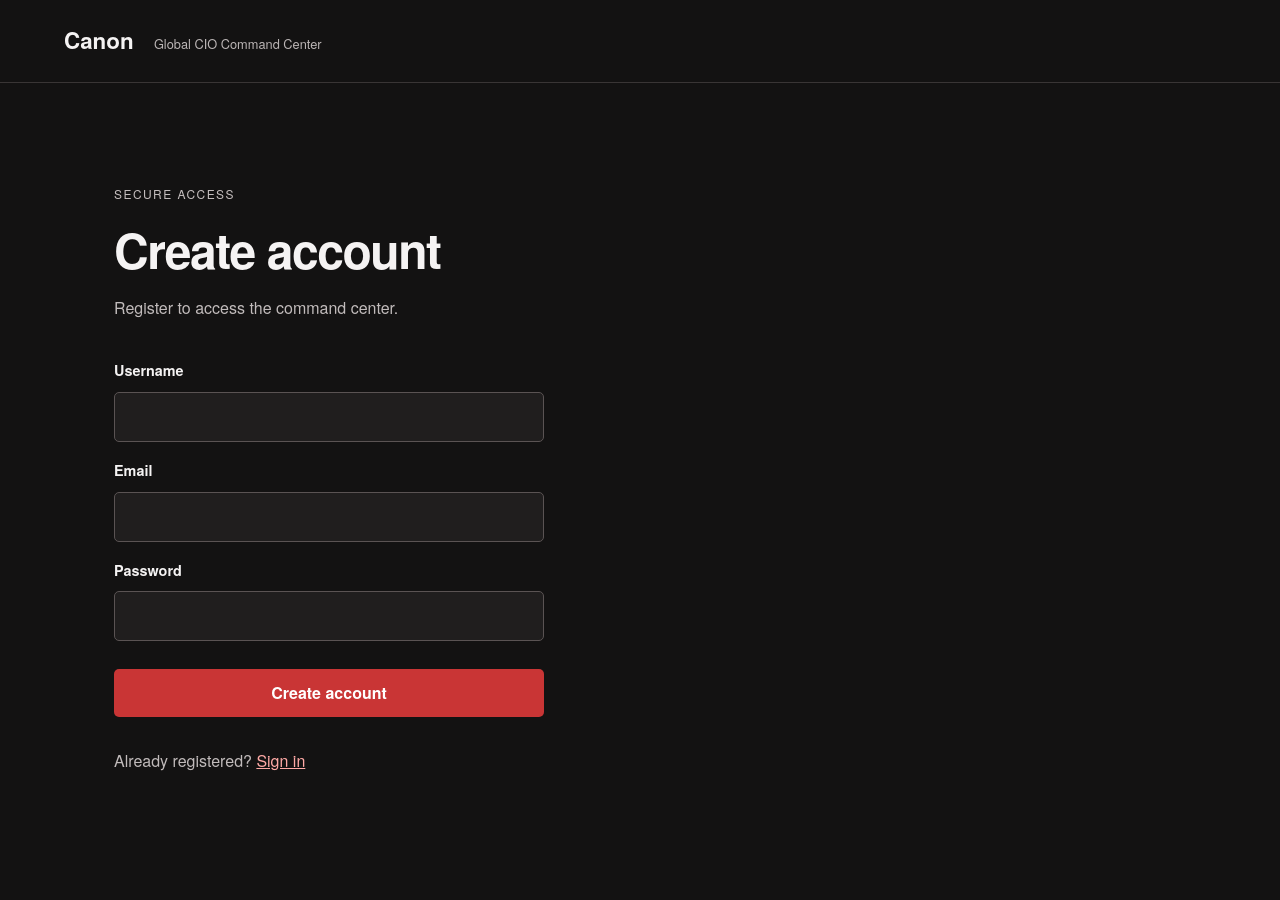
identity screens › shows registration conflict and success
Type "alice" into the field labelled "Username" at (329,417), box 114,392 -> 544,442
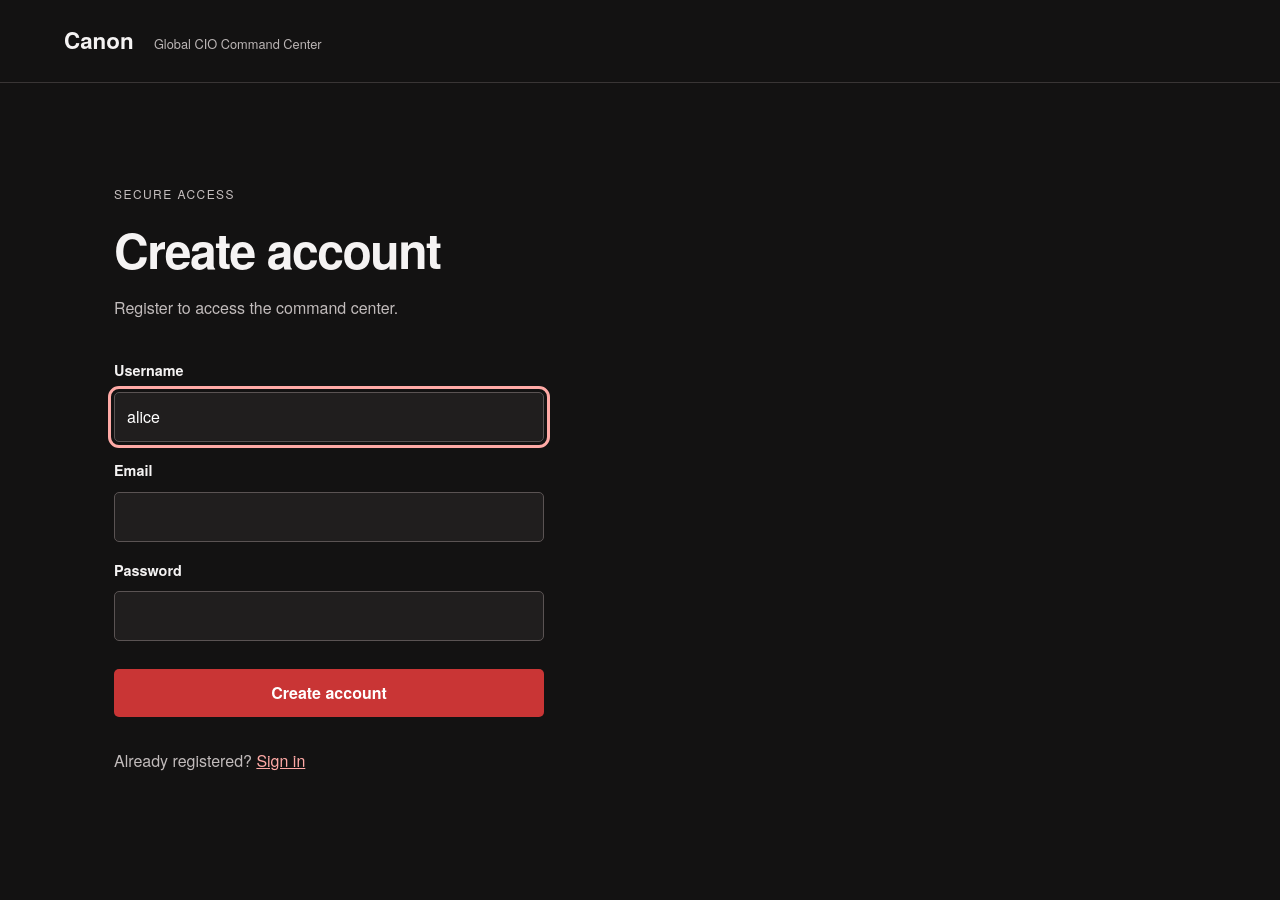
Type "alice@example.com" into the field labelled "Email" at (329,517), box 114,492 -> 544,542
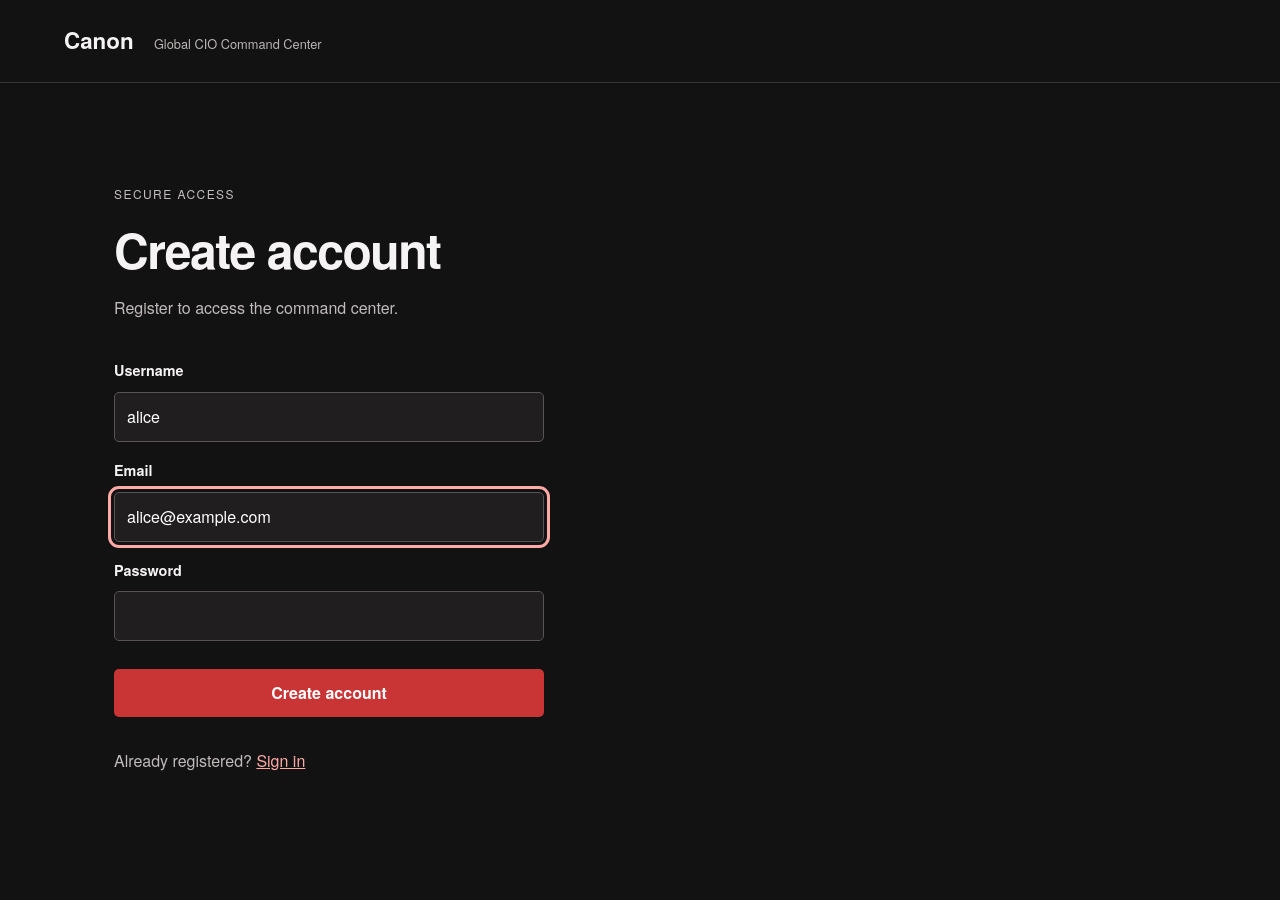
Type "password123" into the password field labelled "Password" at (329,616), box 114,591 -> 544,641
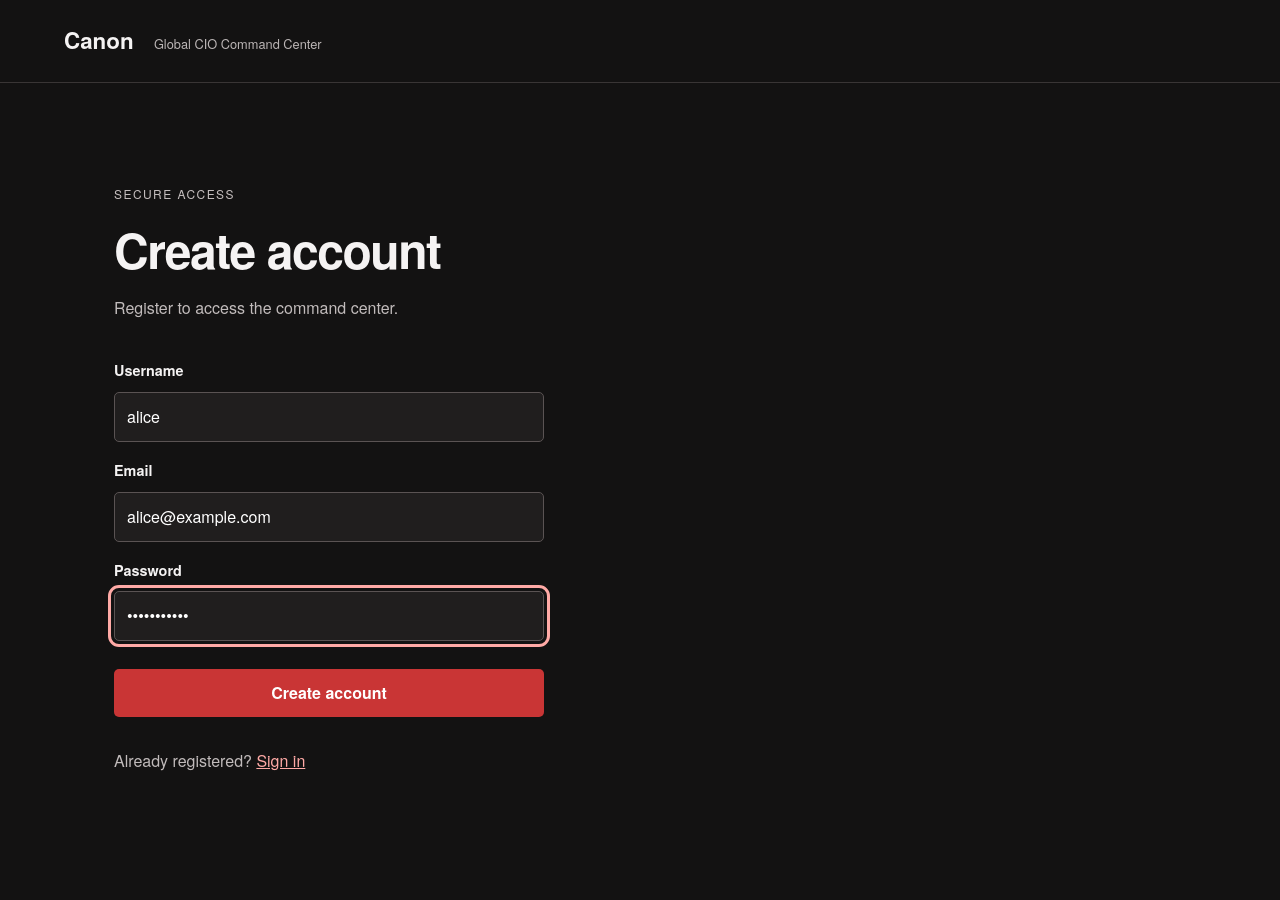
Click the button "Create account" at (329,693), box 114,669 -> 544,717
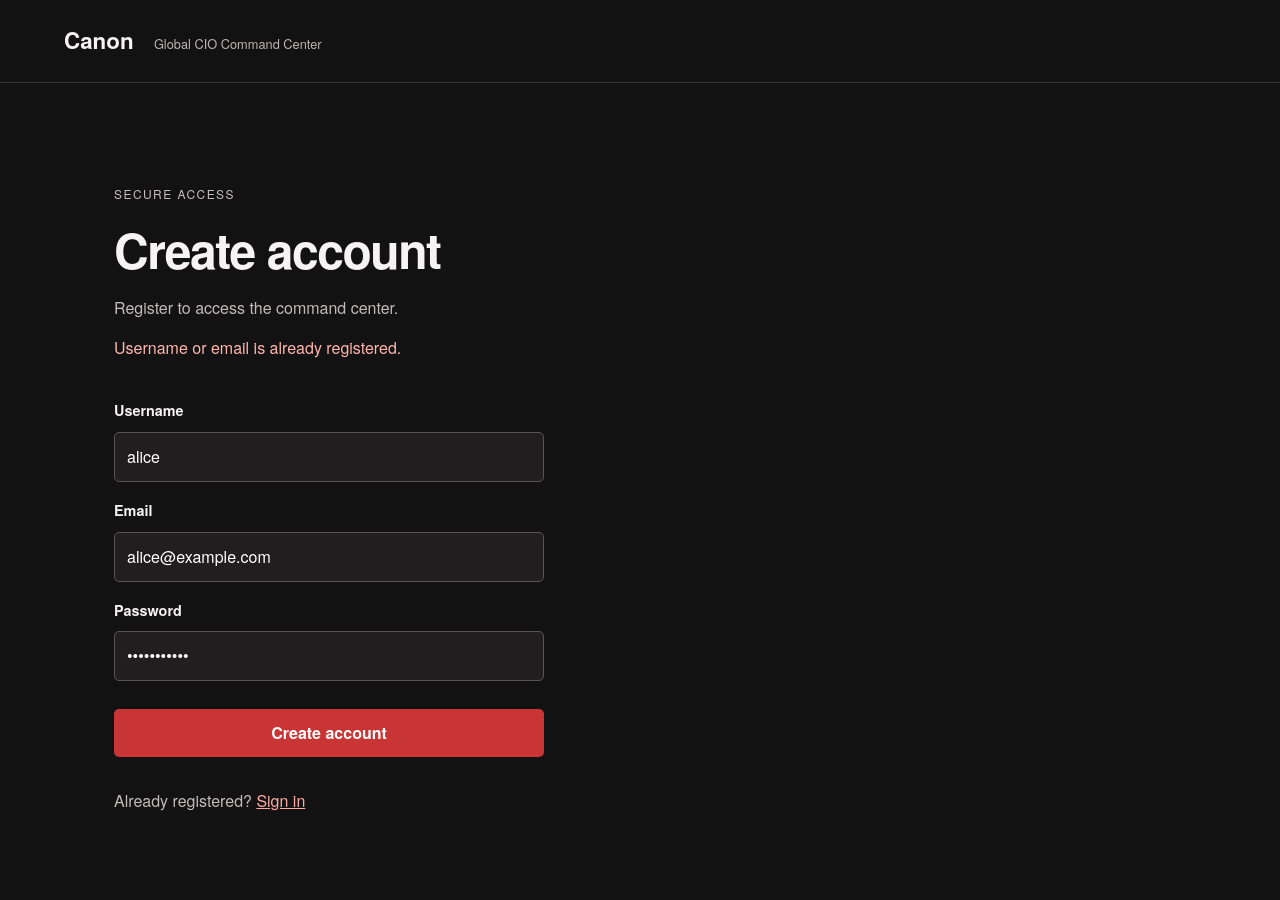
Expected: the message shows "already registered", 114,336 -> 401,359
Click the button "Create account" at (329,733), box 114,709 -> 544,757
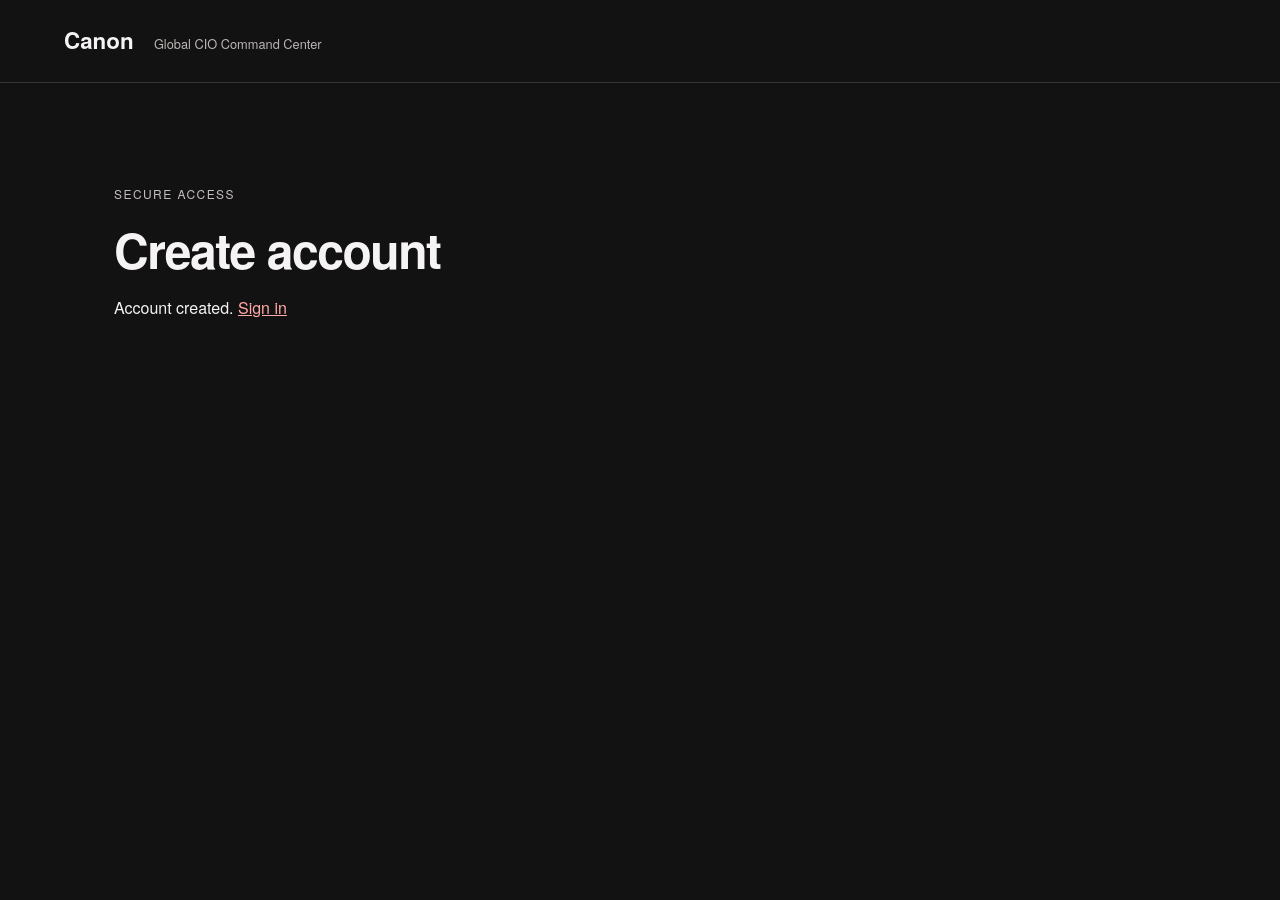
Expected: the message shows "Account created", 114,296 -> 238,319
